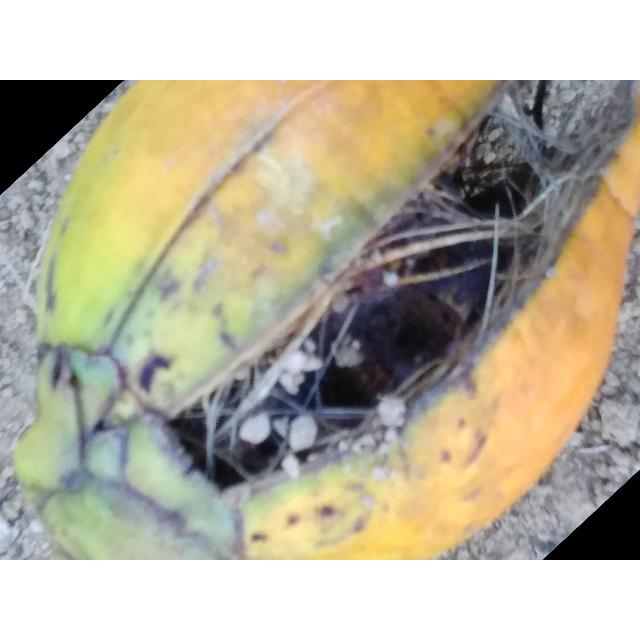damaged: (14, 80, 640, 560)
